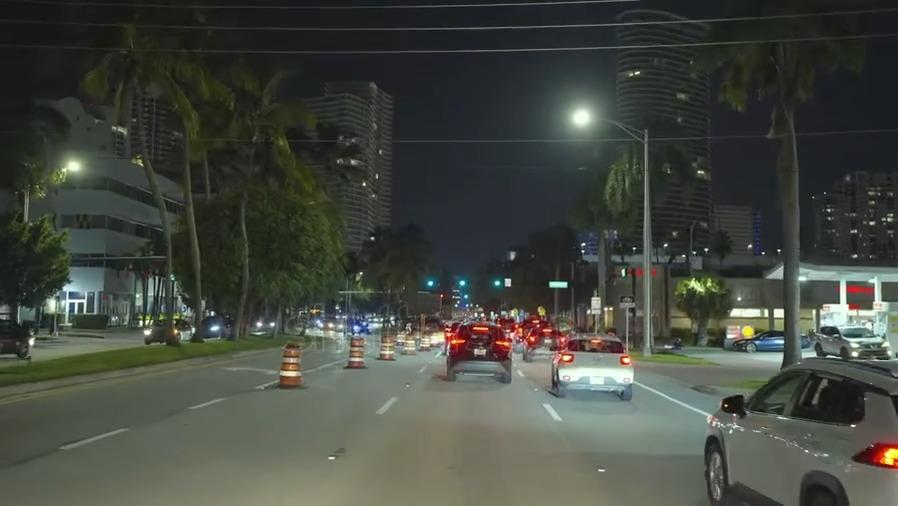car: (709, 353, 898, 506), (554, 331, 635, 402), (448, 319, 512, 383), (810, 321, 894, 361), (0, 315, 40, 361), (737, 327, 810, 352), (141, 315, 195, 344), (525, 325, 562, 364), (197, 315, 235, 339)
cone: (280, 342, 305, 387), (347, 334, 367, 375), (377, 332, 394, 363), (402, 332, 416, 357)
wheel: (699, 436, 735, 506)
